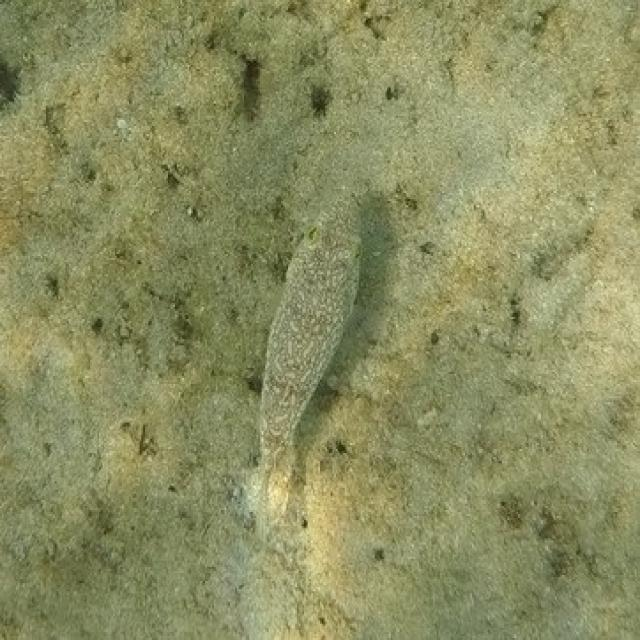Balik: (255, 204, 360, 528)
